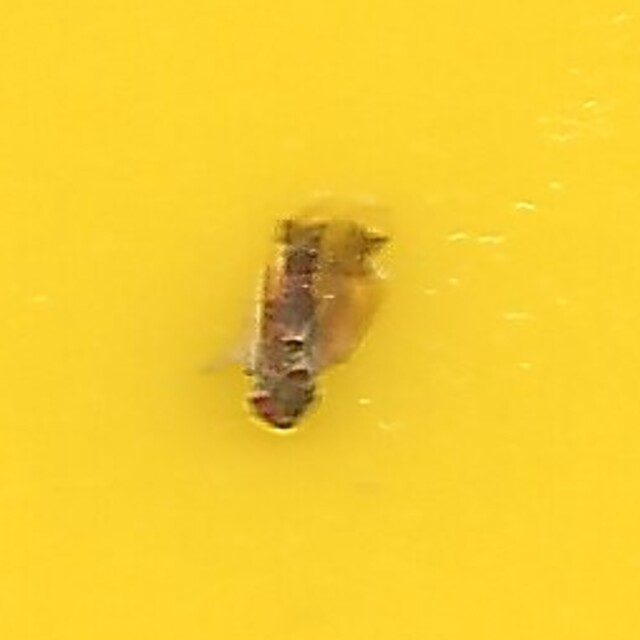Hemiptera: (252, 211, 388, 429)
